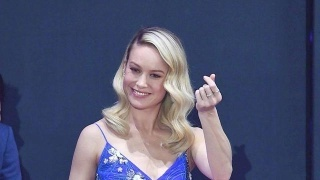oneheart: (190, 72, 226, 108)
